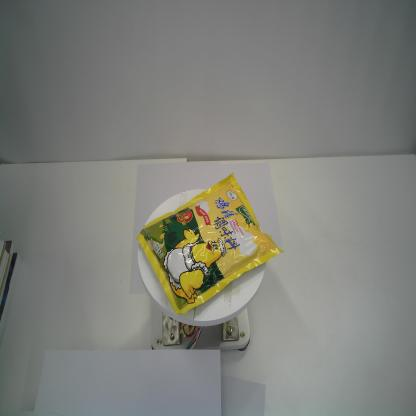Seasoner: (136, 172, 284, 314)
